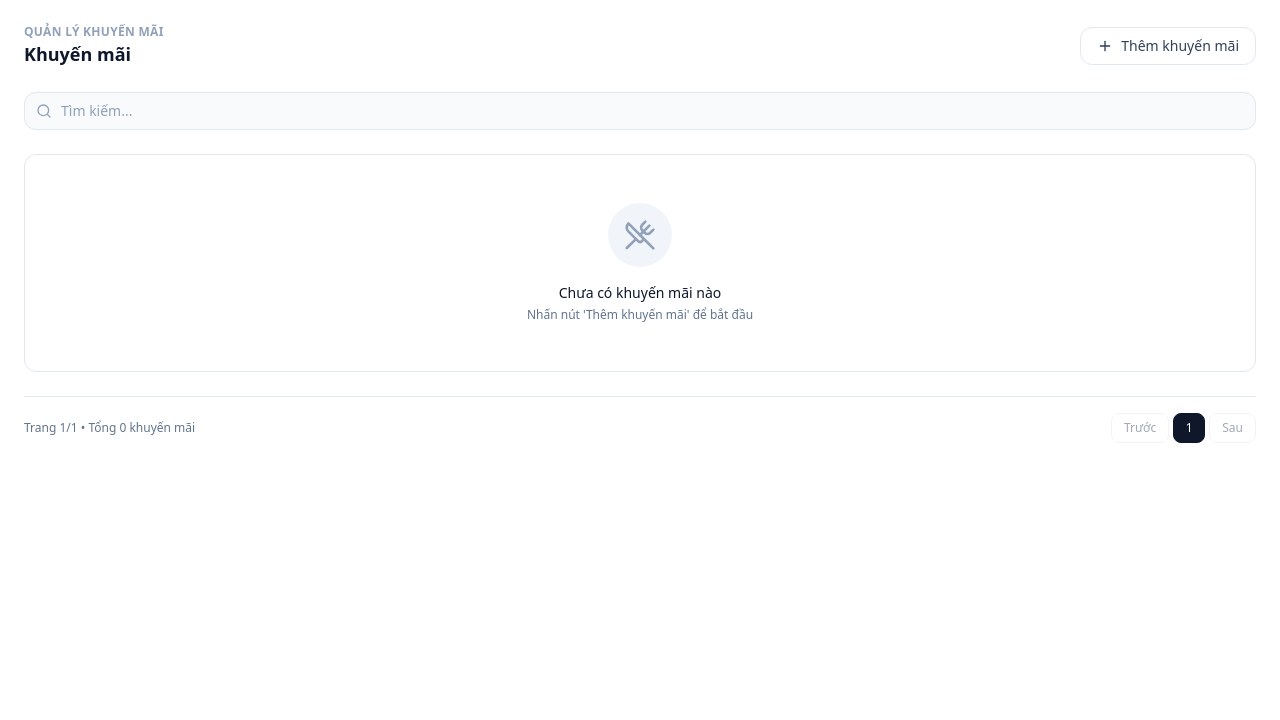
Test: Integration: Tenant Promotion Page Flow › opens create promotion modal and loads reference data
The image size is (1280, 720).
expect the heading "Chưa có khuyến mãi nào" is shown: met, box x1=559 y1=283 x2=721 y2=303
What coordinates should you click on to do the following:
click the button "Thêm khuyến mãi"
I would click on:
 (1168, 46)
Its box is x1=1080 y1=27 x2=1256 y2=65.
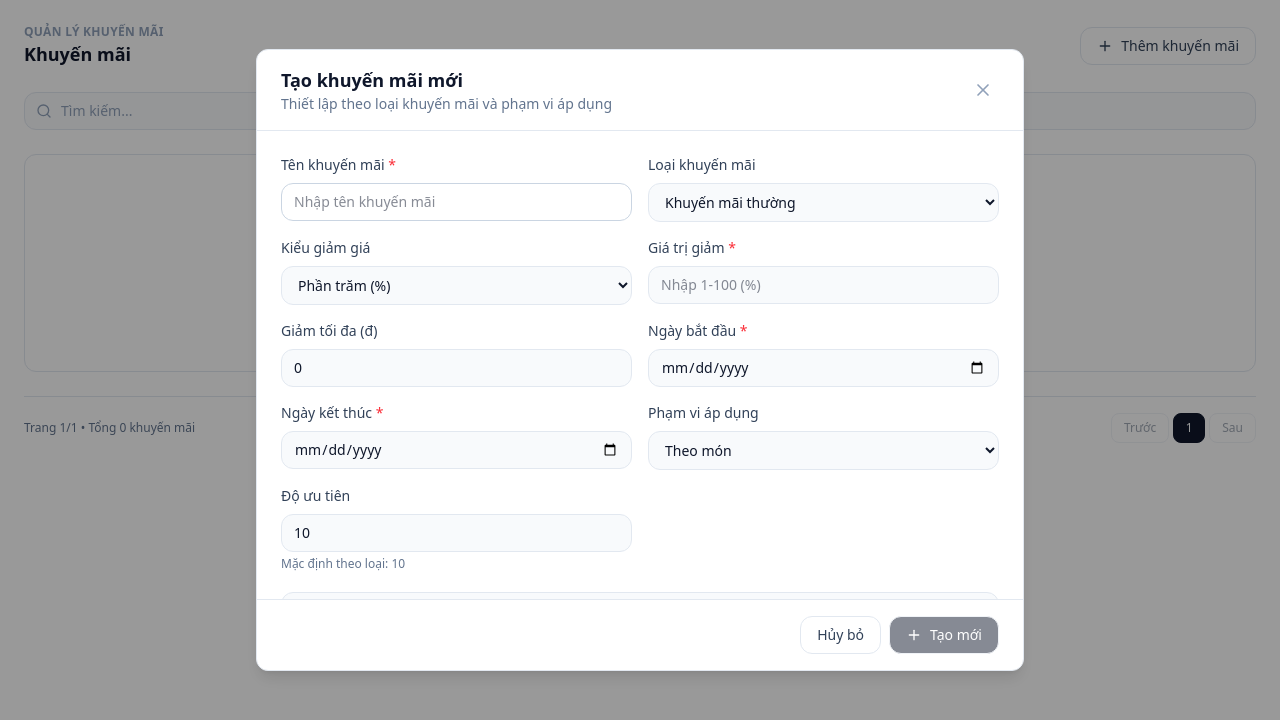
expect the heading "Tạo khuyến mãi mới" is shown: met, box x1=281 y1=68 x2=463 y2=92
expect the field with placeholder "Nhập tên khuyến mãi" is shown: met, box x1=281 y1=183 x2=632 y2=221
